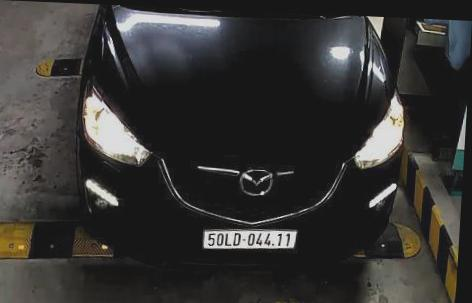License_Plate: (200, 224, 301, 256)
